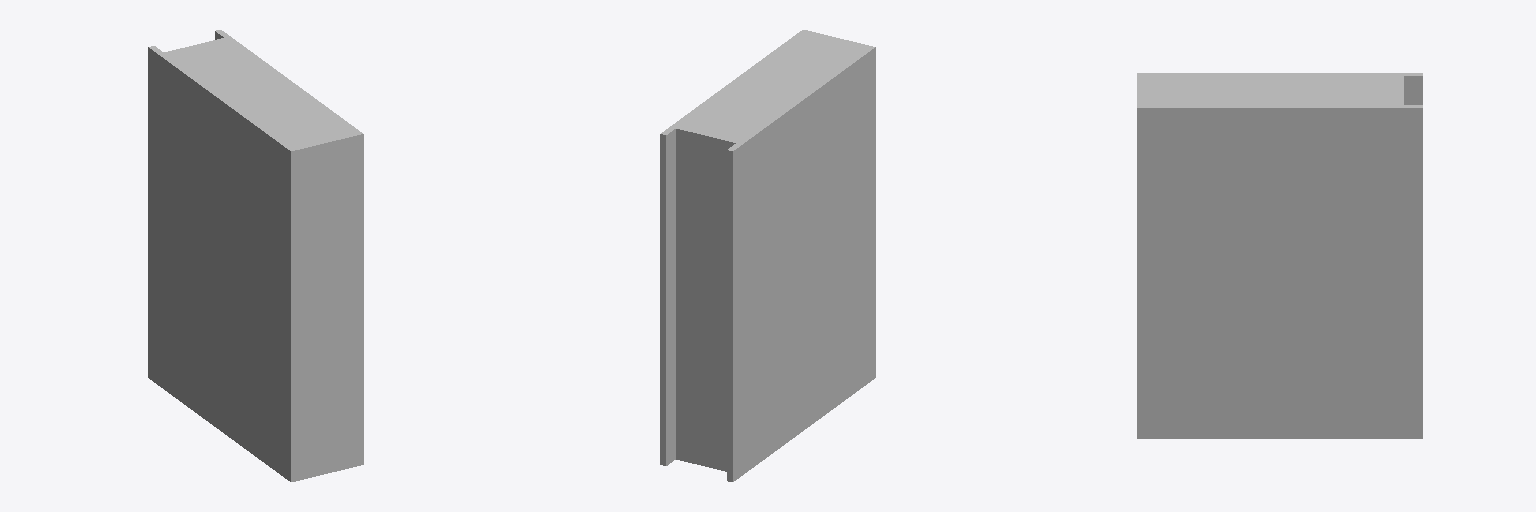
The model's file is Book_Single.obj.
3 views of the same model, side by side, from view 1: azimuth 30°, elevation 25°; view 2: azimuth 150°, elevation 25°; view 3: azimuth 270°, elevation 25° (orthographic).
Parts seen in each view (by area): view 1: Cube; view 2: Cube; view 3: Cube.
Boxes of the visible parts, x1=… form: Cube: x1=148, y1=30, x2=363, y2=481; Cube: x1=660, y1=30, x2=875, y2=481; Cube: x1=1137, y1=73, x2=1422, y2=438.
Bounding box in the file's own units: 0.5876 × 2.56 × 2.